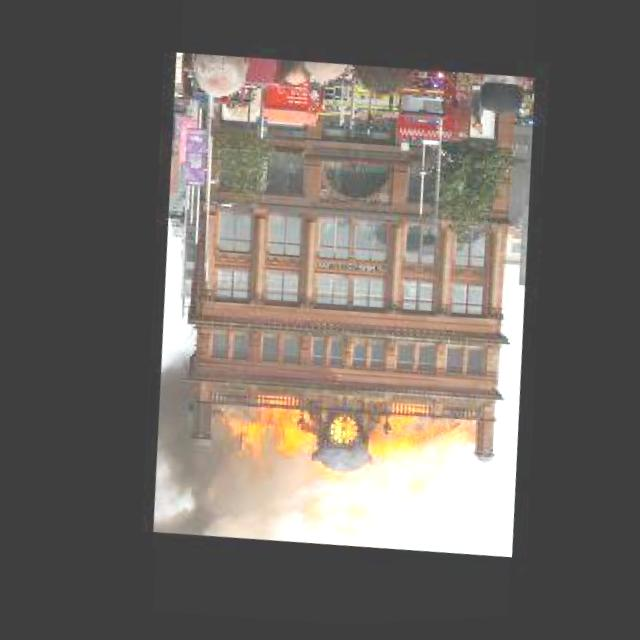helmet: (205, 379, 467, 501)
no_helmet: (201, 462, 430, 563), (137, 348, 232, 539)
